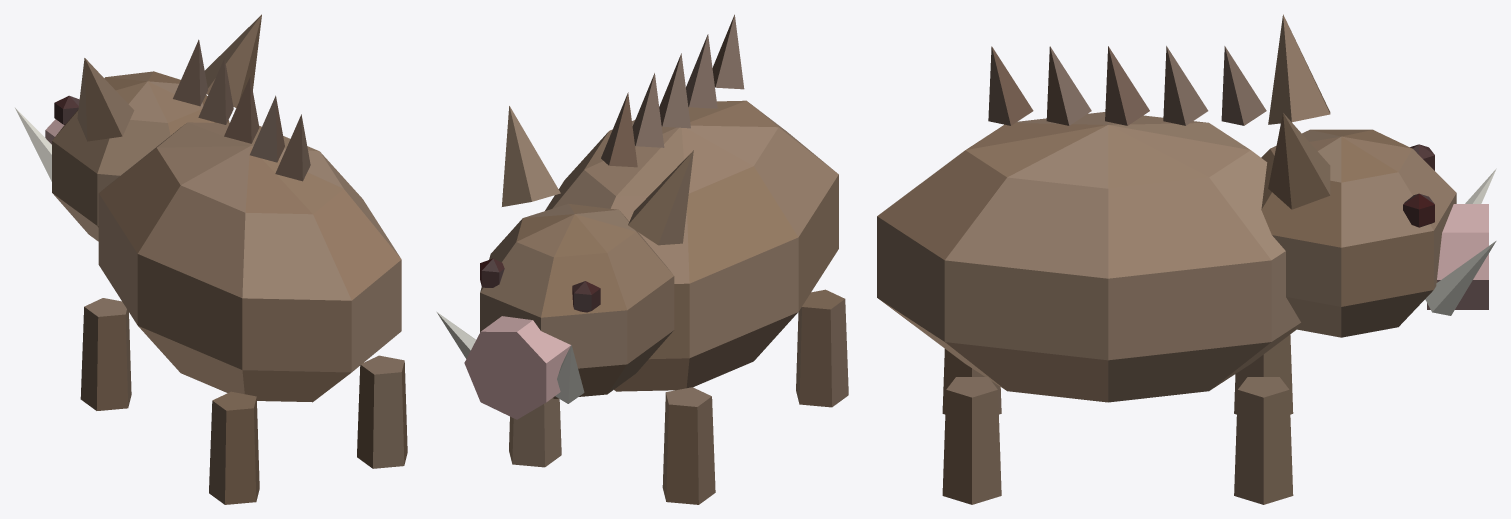
The model's file is boar.glb.
3 views of the same model, side by side, from view 1: azimuth 30°, elevation 25°; view 2: azimuth 150°, elevation 25°; view 3: azimuth 270°, elevation 25° (orthographic). The views are drawn at different scales.
Parts seen in each view (by area): view 1: boar2; view 2: boar2; view 3: boar2.
Boxes of the visible parts, x1,y1,x2,y2 form: boar2: (15,14,407,504); boar2: (437,14,848,504); boar2: (877,14,1496,504).
Bounding box in the file's own units: 0.7608 × 1.15 × 1.59.
